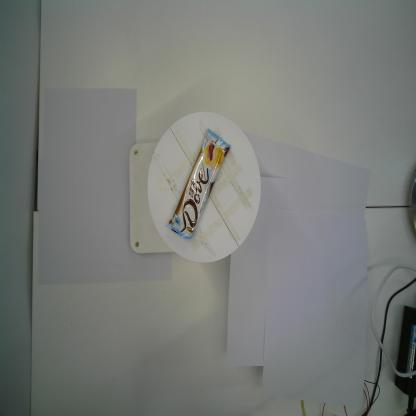Chocolate: (166, 128, 232, 240)
